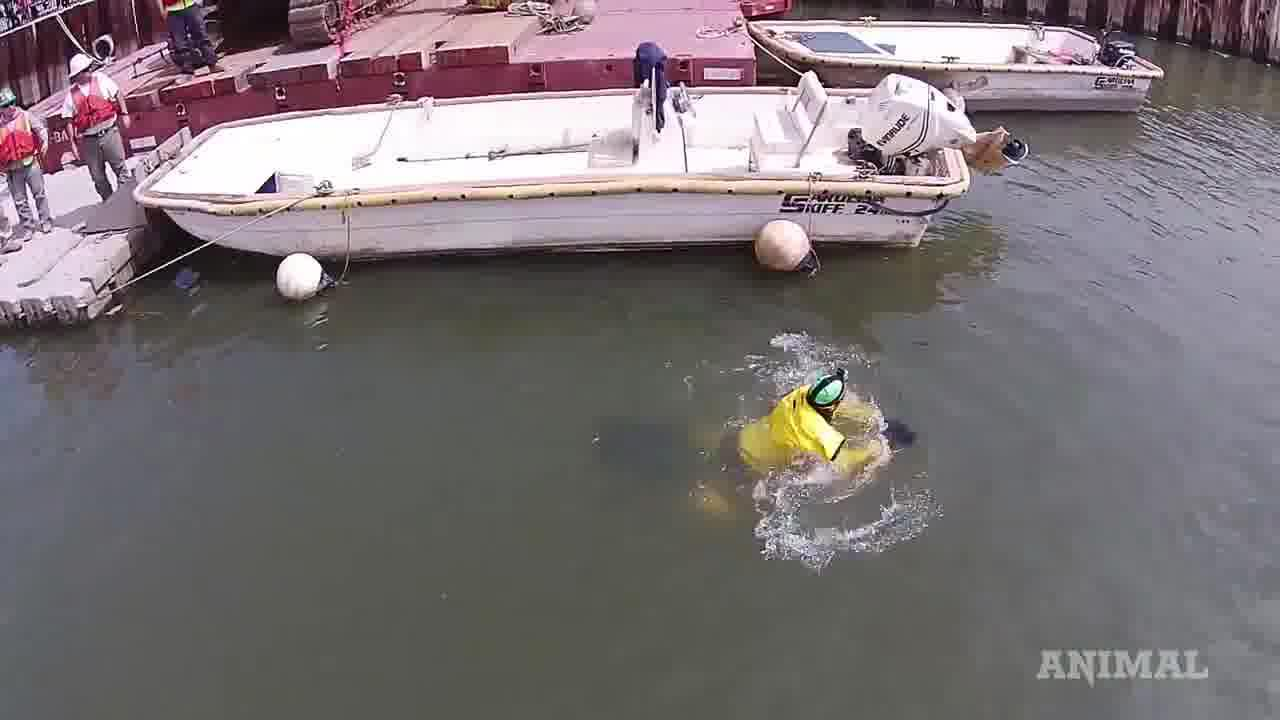human: (677, 366, 911, 517)
